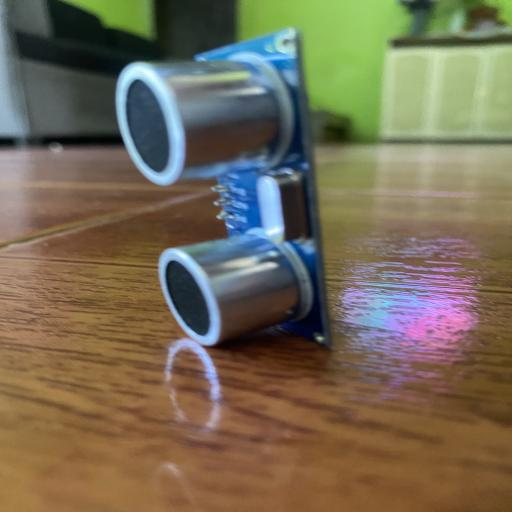Ultrasonic Sensor: (113, 26, 334, 352)
